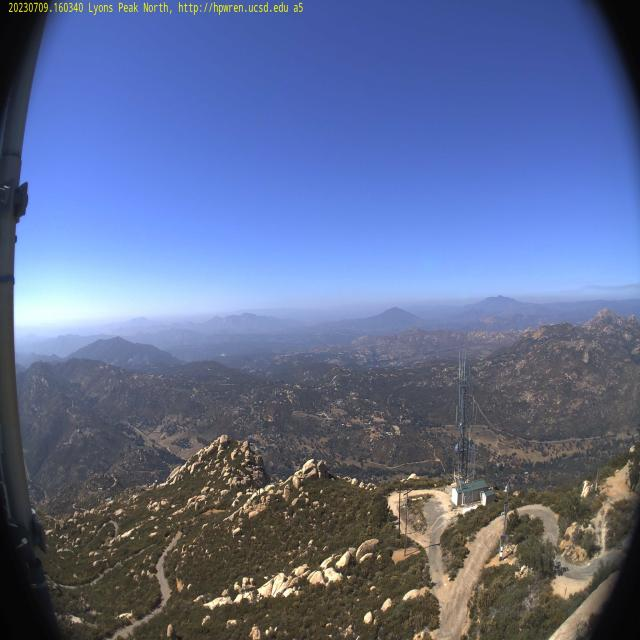smoke: (132, 351, 152, 368)
